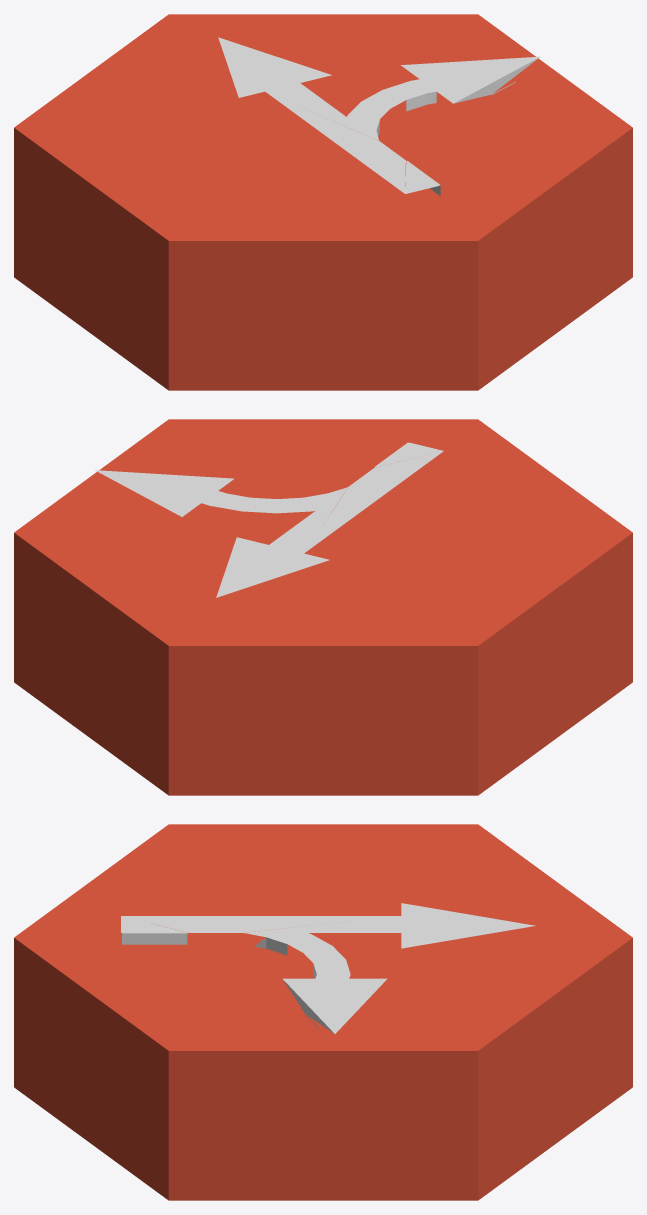
The picture shows the model from 3 angles, top to bottom: view 1: azimuth 30°, elevation 25°; view 2: azimuth 150°, elevation 25°; view 3: azimuth 270°, elevation 25°; orthographic projection.
Visible parts, largest first — view 1: Circle.006, MP_Brick_Terrain.004; view 2: Circle.006, MP_Brick_Terrain.004; view 3: Circle.006, MP_Brick_Terrain.004.
Part boxes in pixels (x1,y1,x2,y2): Circle.006: (14,14,632,390); MP_Brick_Terrain.004: (218,37,540,195); Circle.006: (14,419,632,795); MP_Brick_Terrain.004: (95,442,443,597); Circle.006: (14,824,632,1200); MP_Brick_Terrain.004: (121,903,535,1033).
Size of the model in its own units: 1956 by 652 by 2258.
